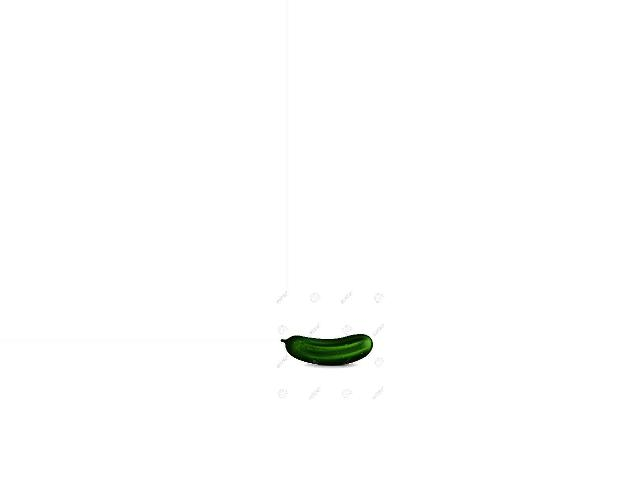cucumber: (281, 334, 373, 366)
